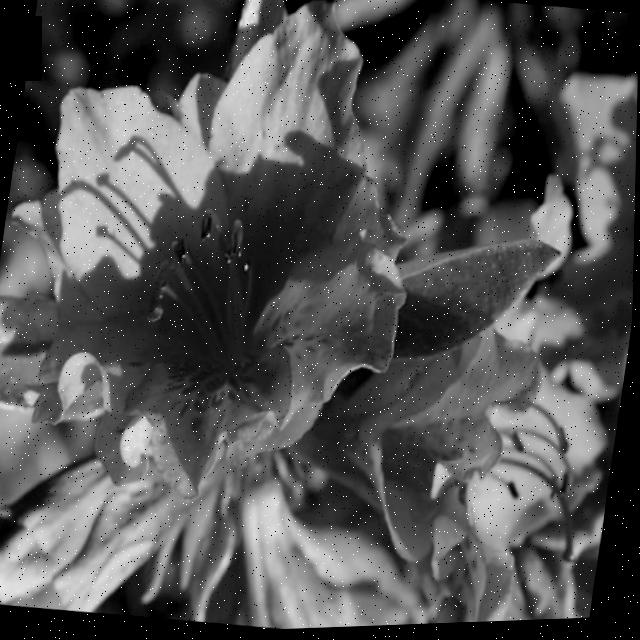azalea: (5, 0, 445, 522)
